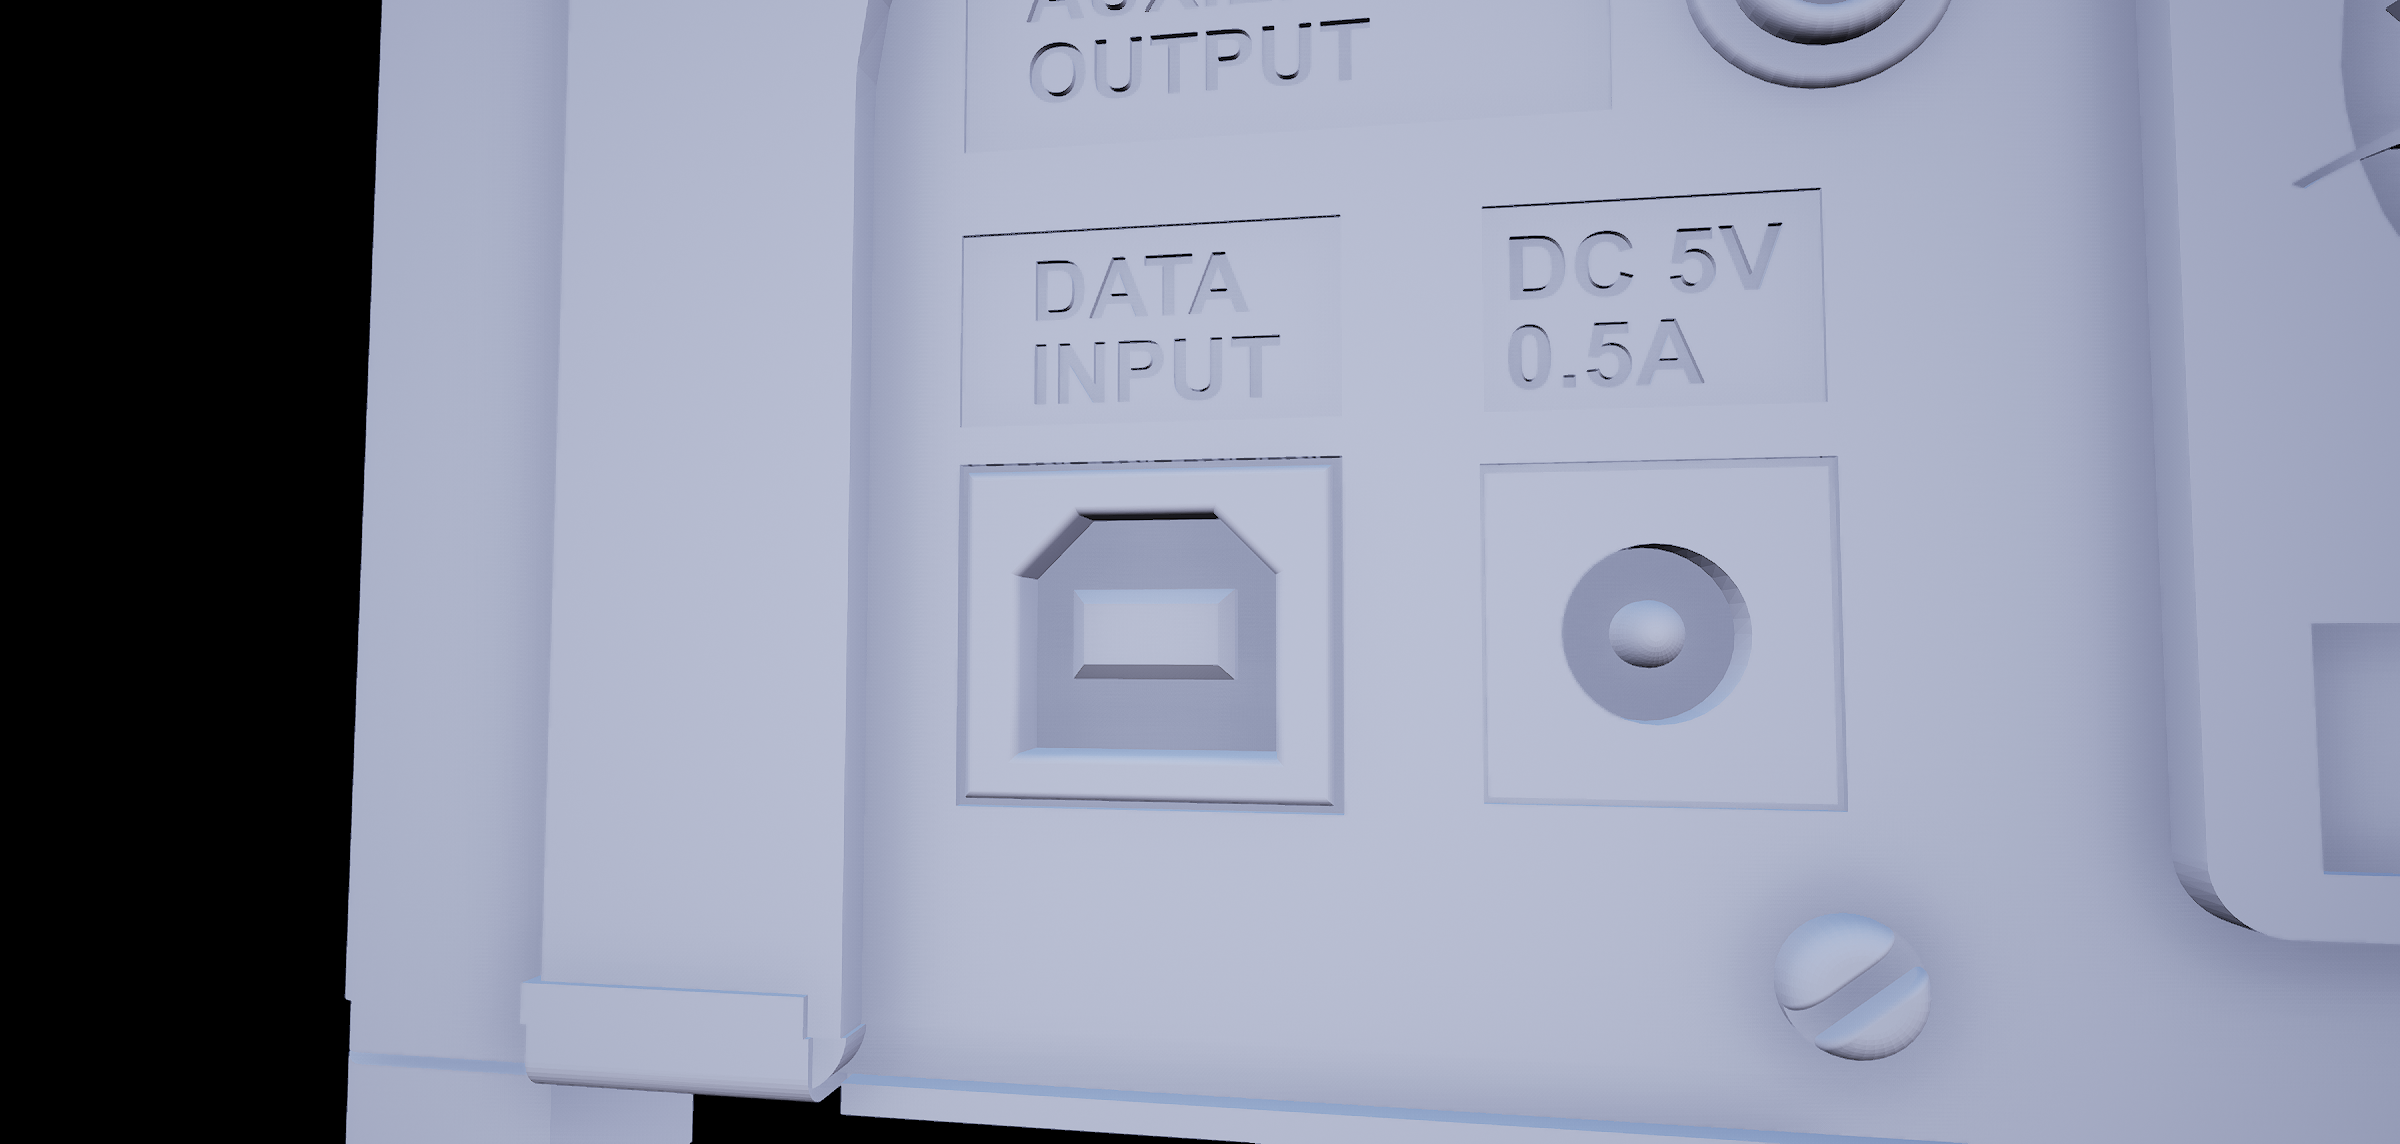aux: (1671, 2, 1968, 103)
dc: (1518, 531, 1772, 743)
usb: (1012, 502, 1296, 767)
